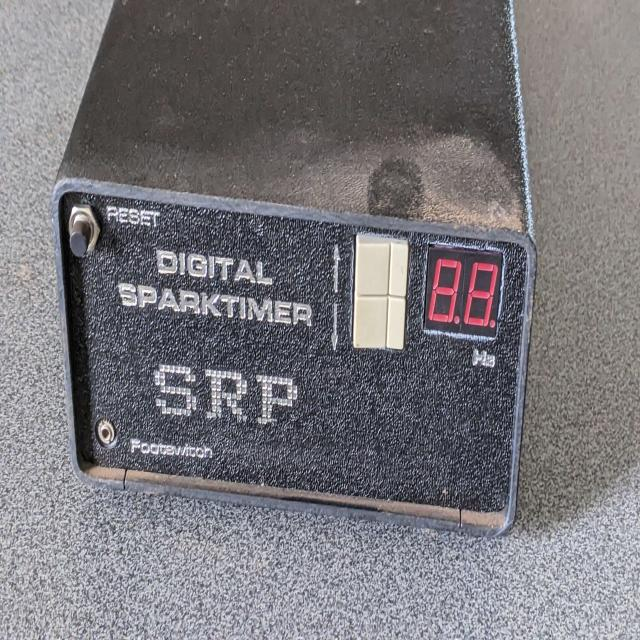SRP Digital Spark Timer: (48, 80, 541, 560)
